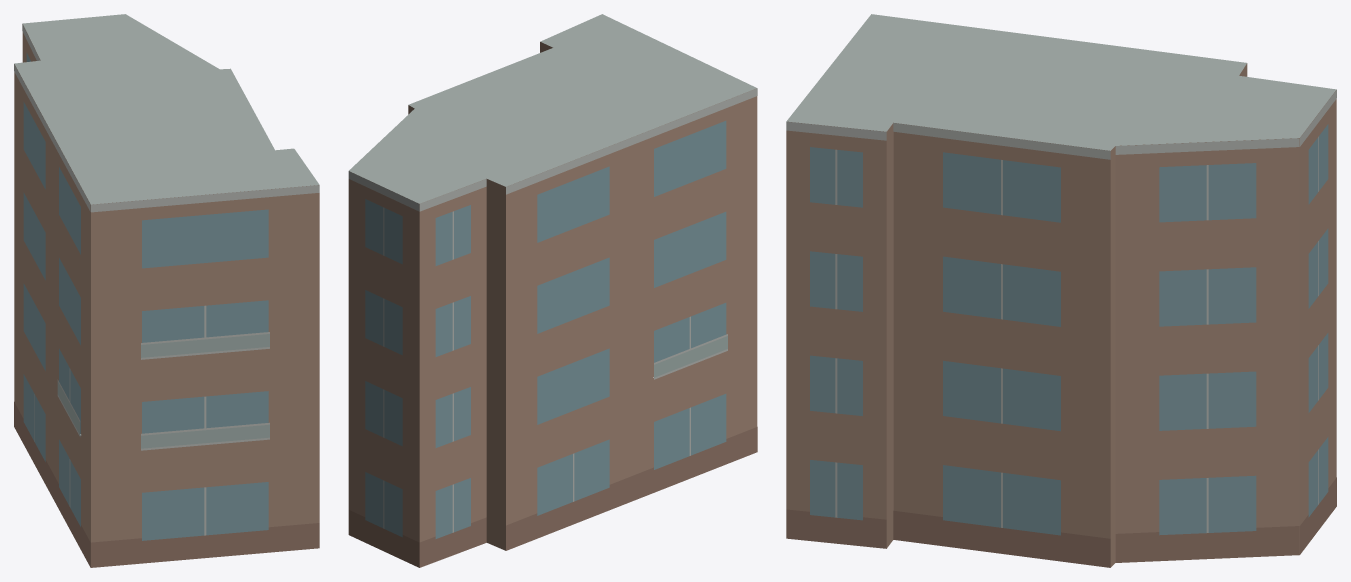
The model's file is survey-upis-32458620.glb.
The picture shows the model from 3 angles, left to right: view 1: azimuth 30°, elevation 25°; view 2: azimuth 150°, elevation 25°; view 3: azimuth 270°, elevation 25°; orthographic projection. The views are drawn at different scales.
Parts seen in each view (by area): view 1: survey-upis-32458620.tmp; view 2: survey-upis-32458620.tmp; view 3: survey-upis-32458620.tmp.
Part boxes in pixels (x1,y1,x2,y2): survey-upis-32458620.tmp: (14,14,319,567); survey-upis-32458620.tmp: (348,14,757,567); survey-upis-32458620.tmp: (786,14,1336,567).
Bounding box in the file's own units: 7.96 × 11.3 × 13.53.
